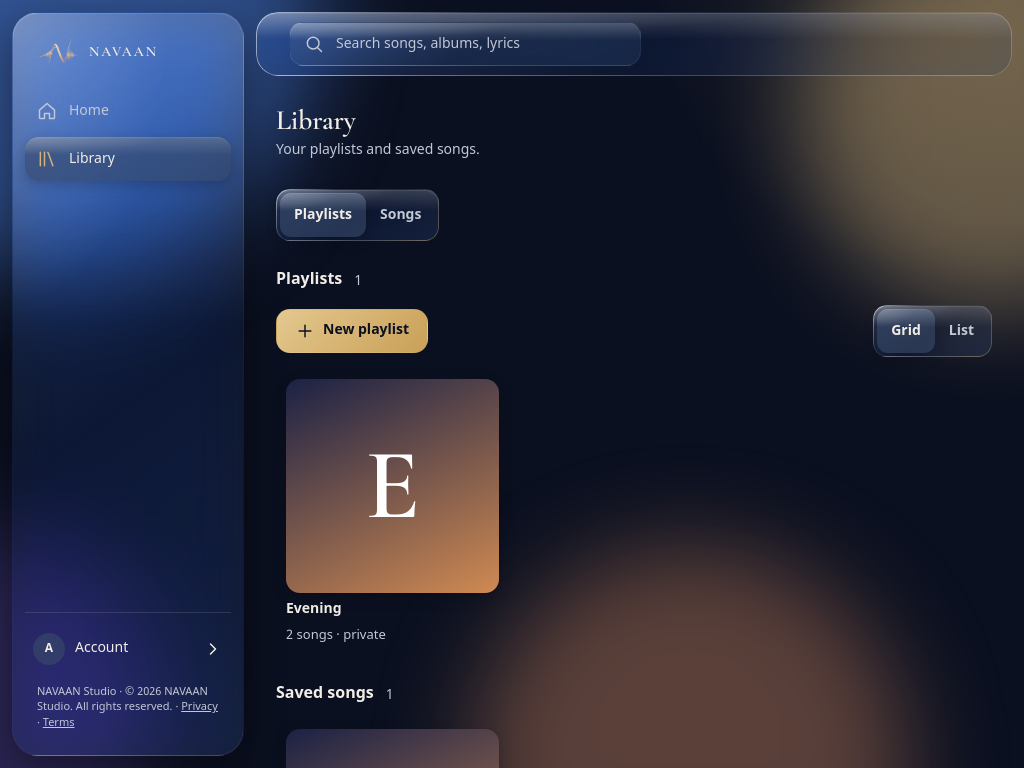
Scenario: Library › lists playlists and saved songs and creates a playlist
Click the button "New playlist".
click(352, 331)  # box [276, 309, 428, 353]
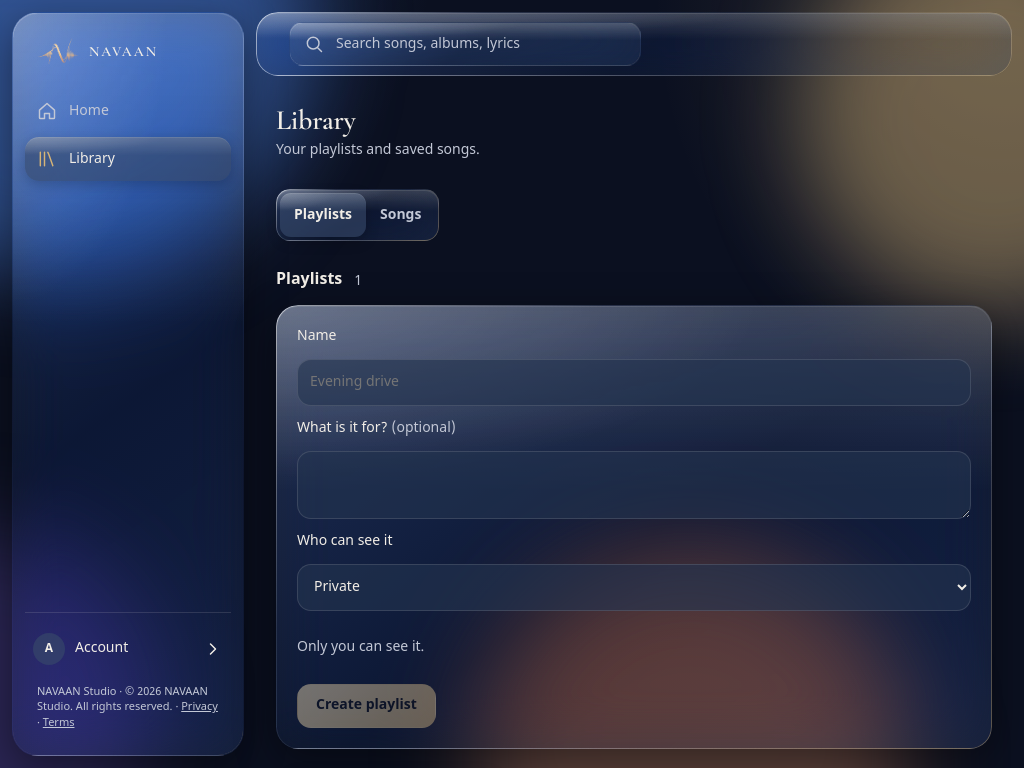
Type "Road" into the field labelled "Name".
click(634, 383); type("Road")  # box [297, 359, 971, 406]
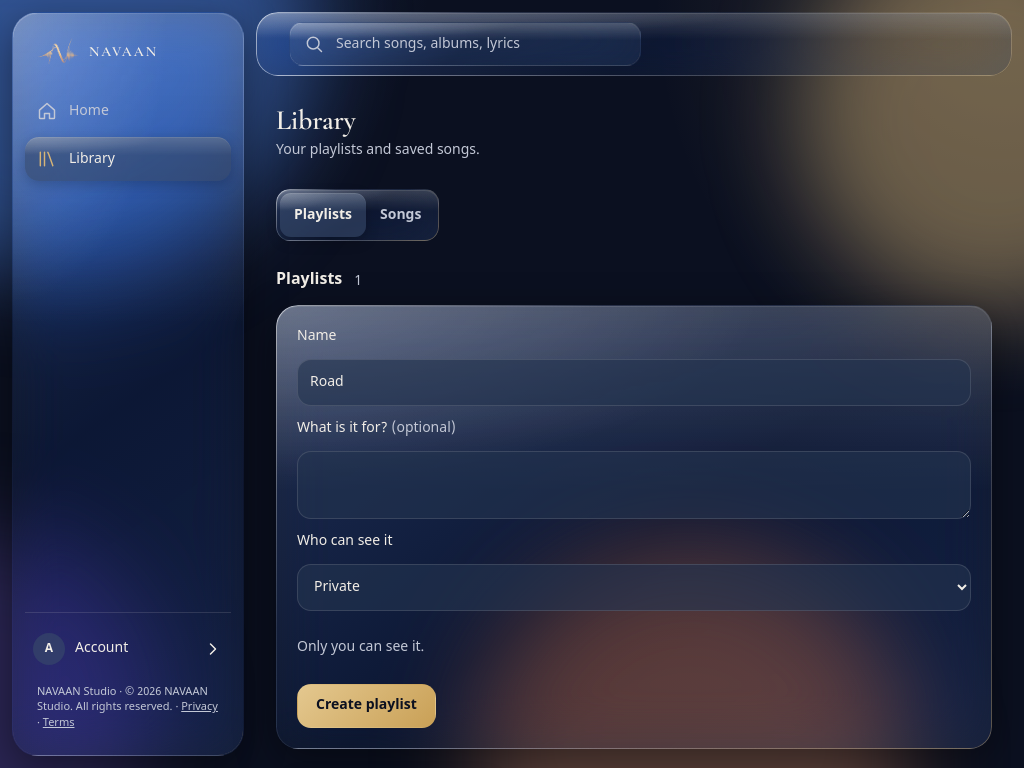
Type "Long drives" into the text box labelled "What is it for? (optional)".
click(634, 485); type("Long drives")  # box [297, 451, 971, 519]
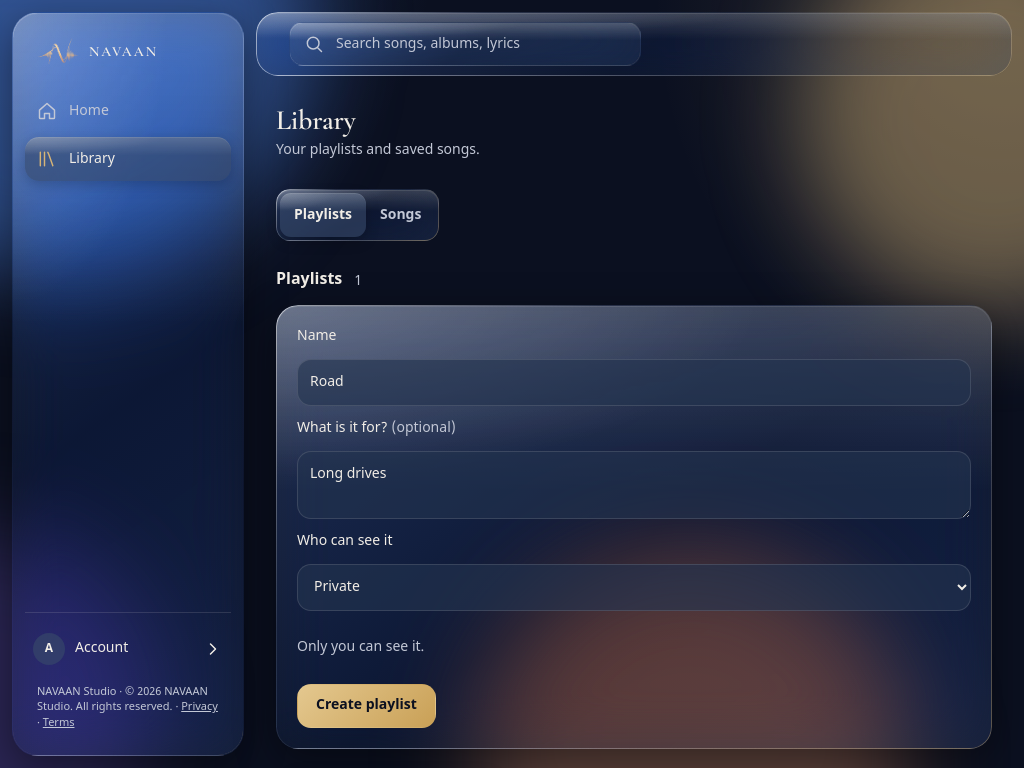
Select "Unlisted" in the dropdown labelled "Who can see it" at (634, 588), box [297, 564, 971, 611]
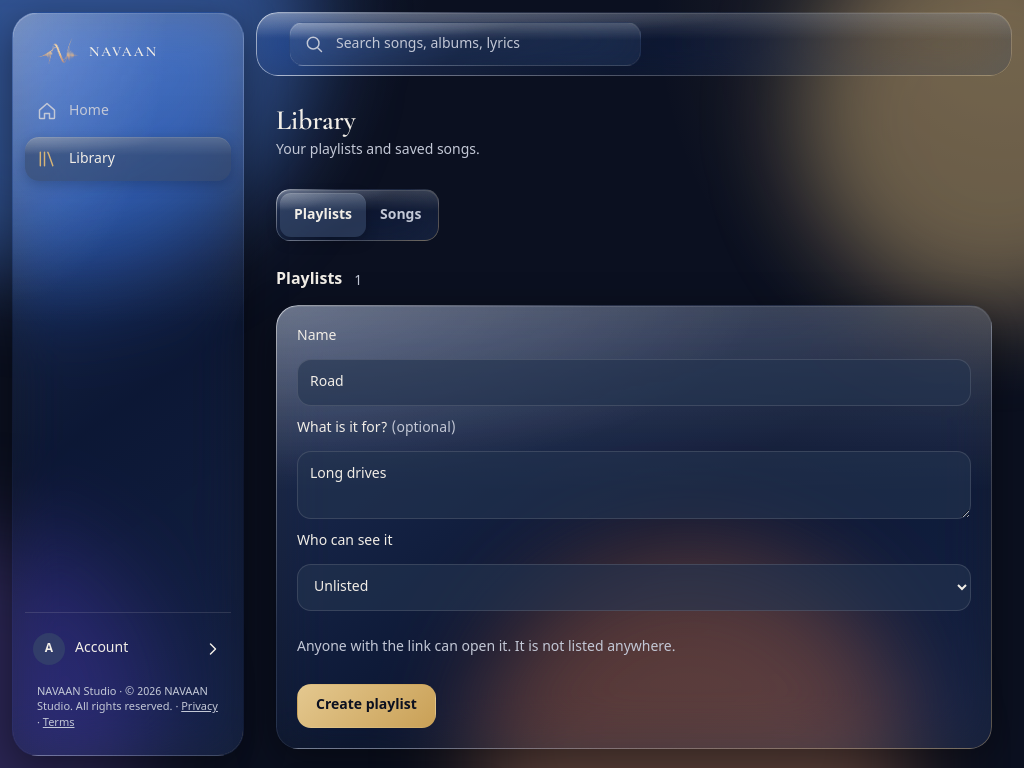
Result: the text "Anyone with the link can open it. It is not listed anywhere." is shown at [297, 638, 676, 657]
Click the button "Create playlist".
click(366, 706)  # box [297, 684, 436, 728]
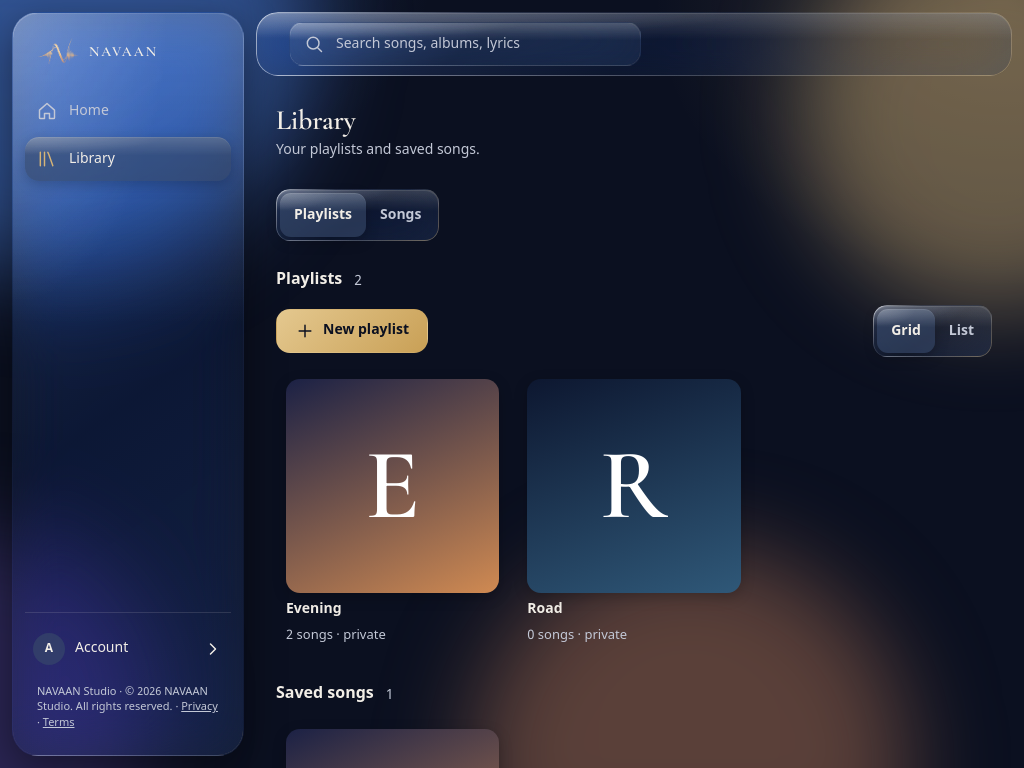
Result: the link "R Road 0 songs · private" is shown at [517, 369, 751, 655]
